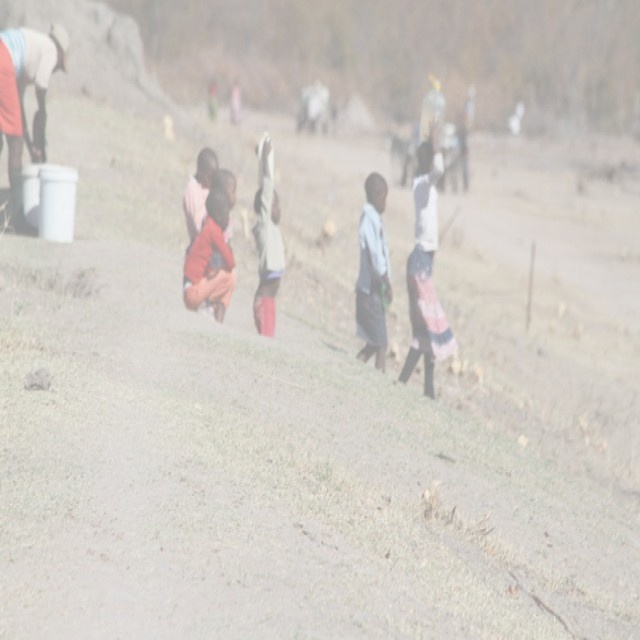pessoa: (393, 114, 458, 404), (0, 7, 72, 240), (354, 169, 395, 375), (181, 184, 239, 324), (250, 130, 286, 340), (385, 116, 473, 196), (199, 166, 239, 273), (182, 142, 221, 249), (291, 76, 333, 141), (463, 78, 486, 141), (506, 93, 527, 141), (228, 74, 243, 140), (205, 70, 221, 130)
